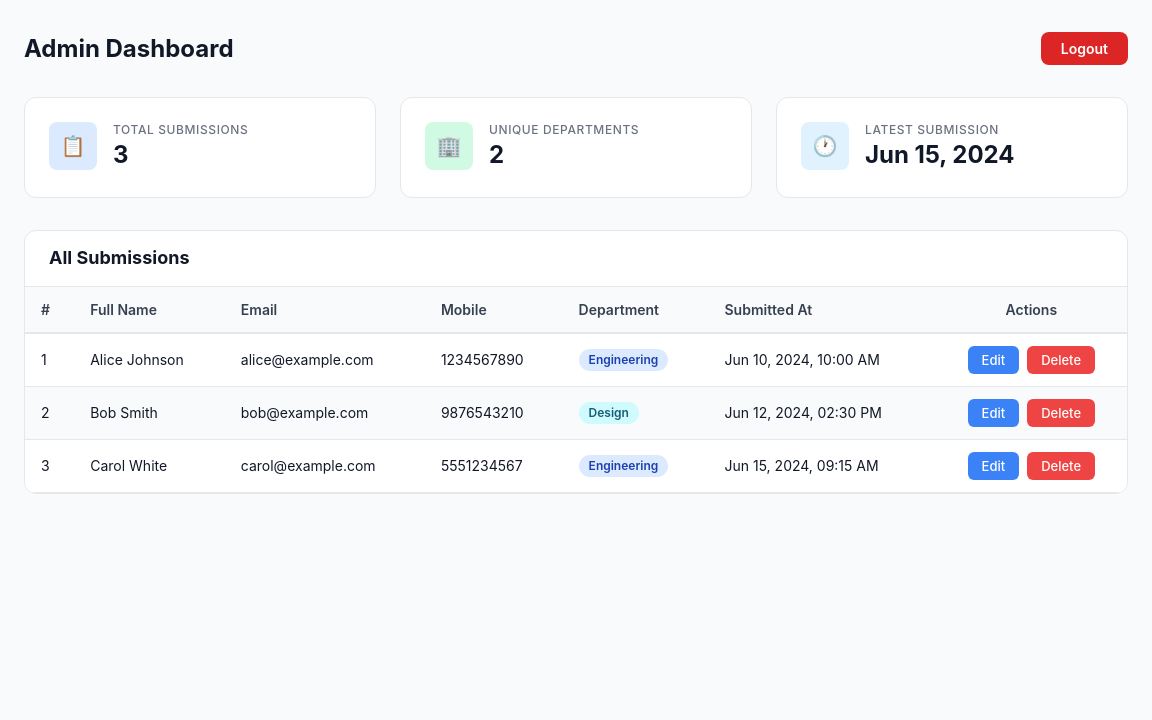
Test case: AdminDashboard › edit modal › saves changes and shows success banner when edit is submitted
Step 1. Click the button with aria-label "Edit submission for Alice Johnson" → click(993, 360), box [968,346,1019,374]
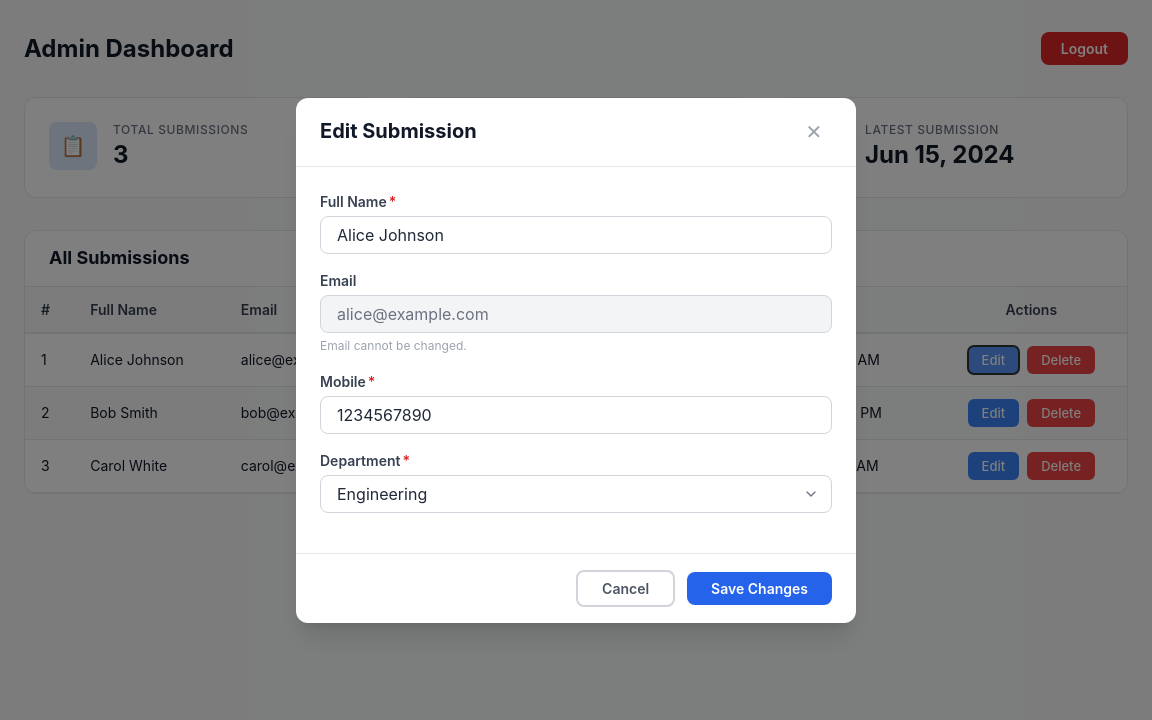
Step 2. Replace the text in the field labelled "Full Name*" with "Alice Updated" → (576, 234), box [320,216,832,254]
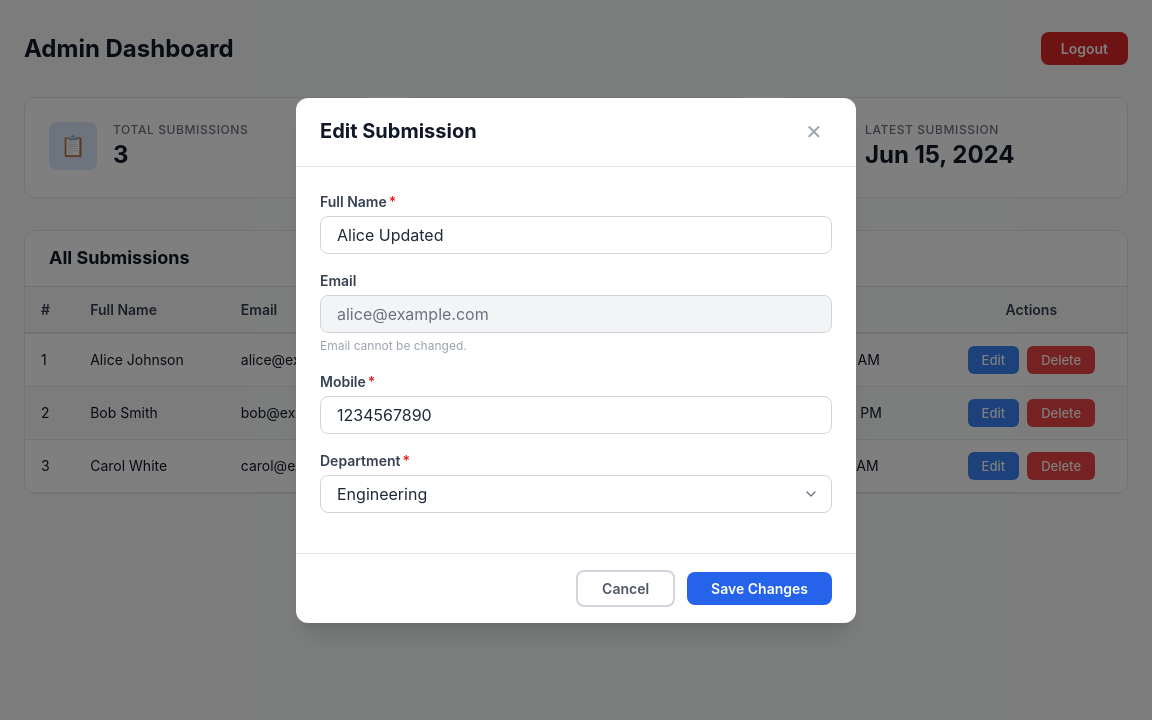
Step 3. Click the button "Save Changes" → click(760, 588), box [687,572,832,604]
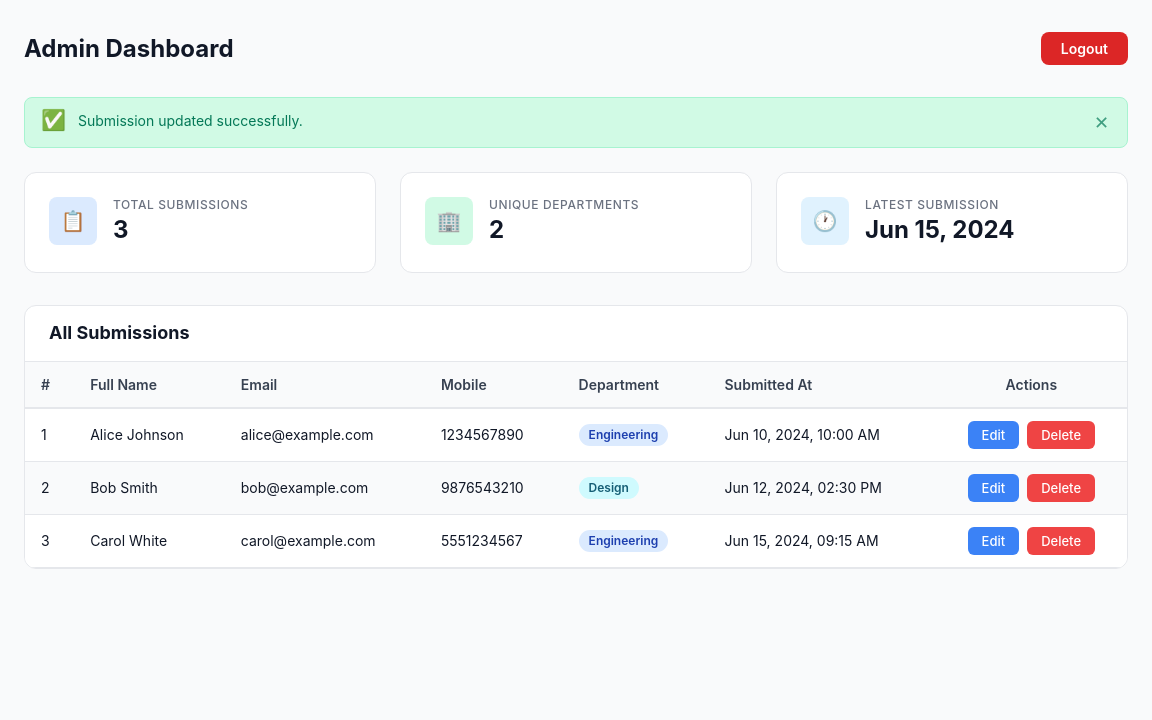
Expected: the text "Submission updated successfully." is shown, [78,112,303,129]
Expected: the heading "Edit Submission" is gone
